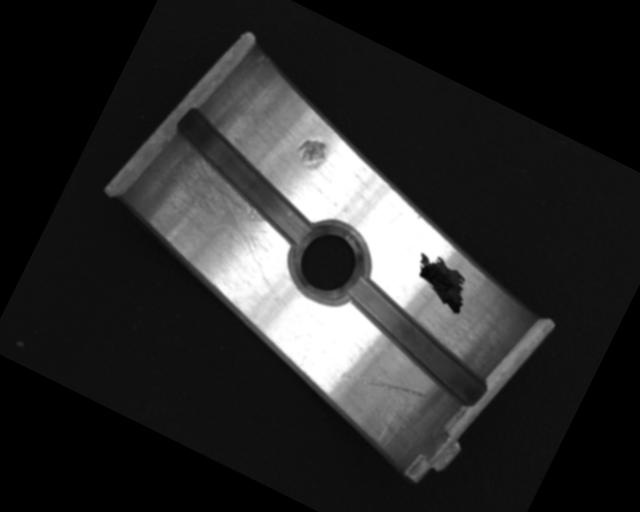blot: (401, 247, 478, 317)
bruise: (290, 132, 333, 176)
gap: (152, 106, 336, 249), (324, 272, 504, 410)
hole: (279, 213, 378, 312)
nick: (338, 354, 430, 417)
scratch: (126, 139, 307, 287)
